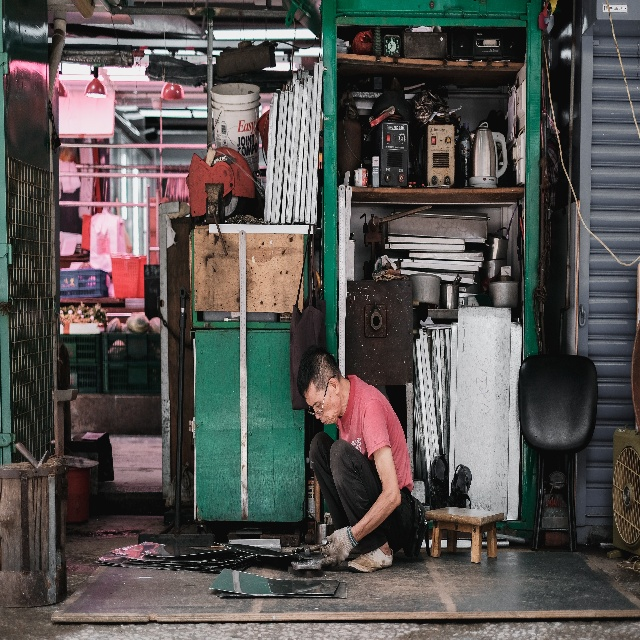Gafas: (307, 373, 336, 419)
Guantes: (319, 524, 359, 567)
